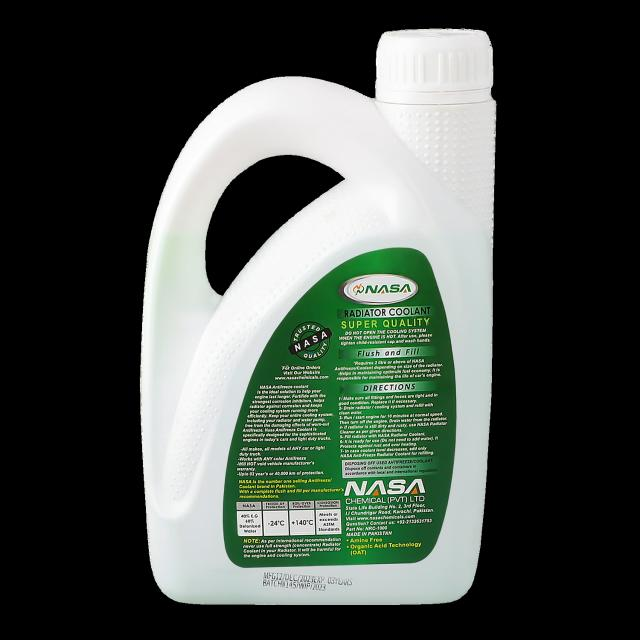coolant: (125, 17, 505, 614)
